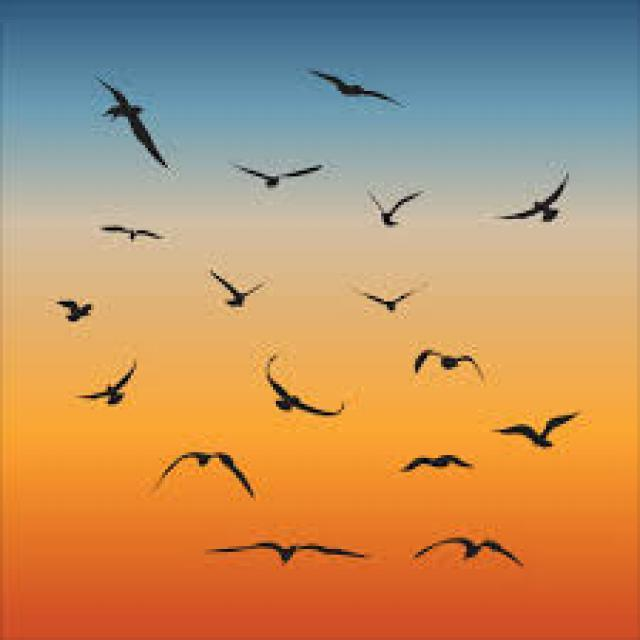bird: (77, 64, 182, 181), (208, 522, 358, 596), (257, 340, 360, 437), (414, 524, 539, 602), (482, 167, 596, 240), (150, 434, 260, 499), (226, 150, 346, 208), (310, 64, 418, 127), (372, 426, 483, 486), (386, 332, 490, 390), (493, 398, 588, 458), (31, 280, 120, 334), (194, 254, 272, 314), (354, 172, 420, 238), (340, 276, 440, 316), (74, 352, 140, 412), (82, 209, 162, 252)
